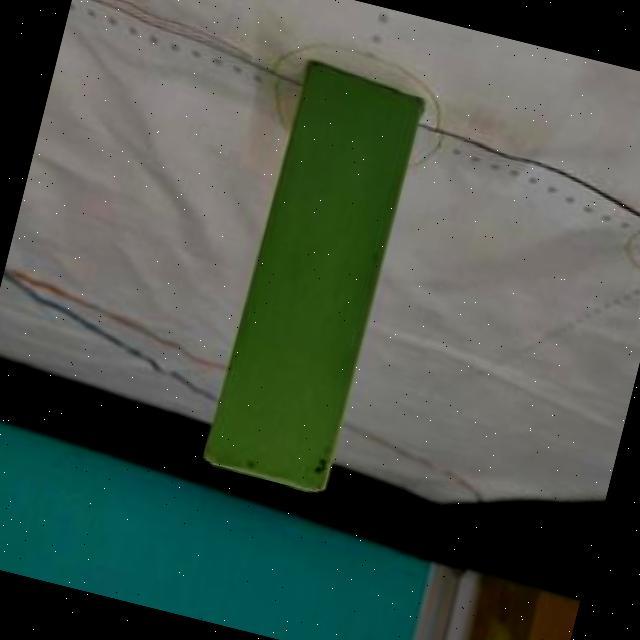greenbox: (202, 57, 427, 495)
